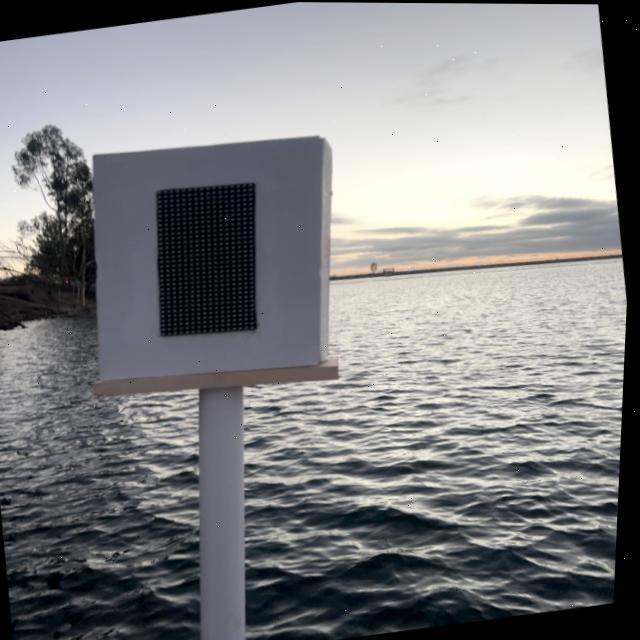led: (103, 143, 322, 374)
